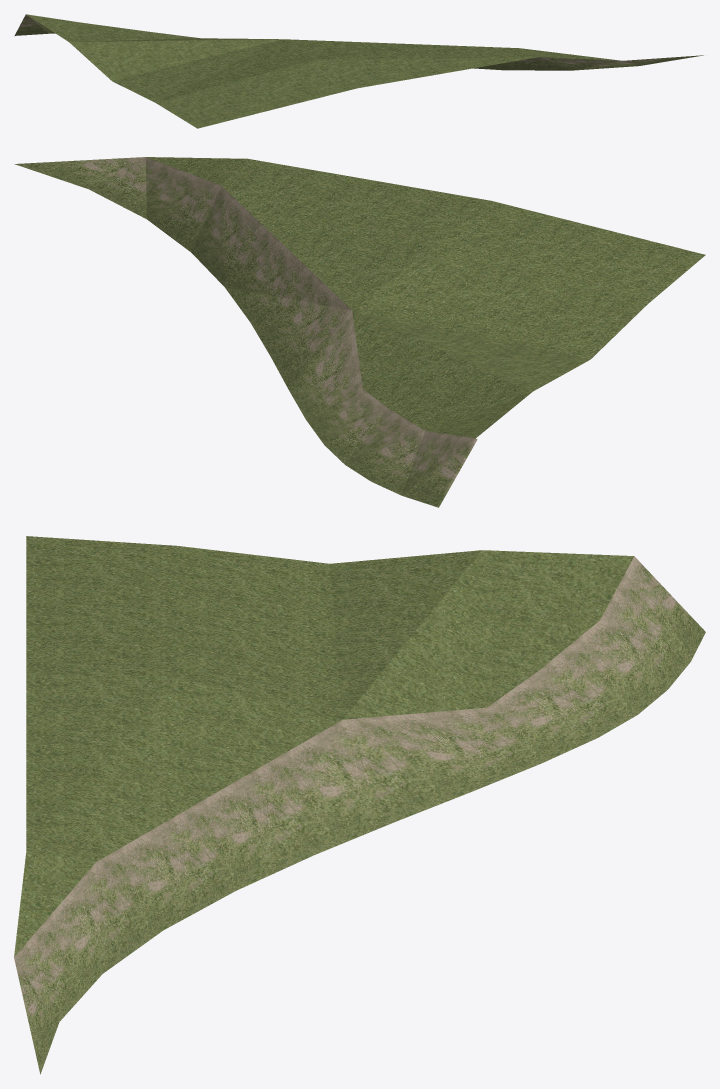
Rendered from cen_bit_03.obj.
3 views of the same model, one above another, from view 1: azimuth 30°, elevation 25°; view 2: azimuth 150°, elevation 25°; view 3: azimuth 270°, elevation 25° (orthographic). The views are drawn at different scales.
Parts seen in each view (by area): view 1: cen_bit_03; view 2: cen_bit_03; view 3: cen_bit_03.
Part boxes in pixels (box(x1,y1,x2,y2)): cen_bit_03: box(14, 14, 703, 128); cen_bit_03: box(14, 157, 705, 507); cen_bit_03: box(14, 536, 705, 1074).
Bounding box in the file's own units: 147 × 15.25 × 97.03.
2 materials, 2 textured.
